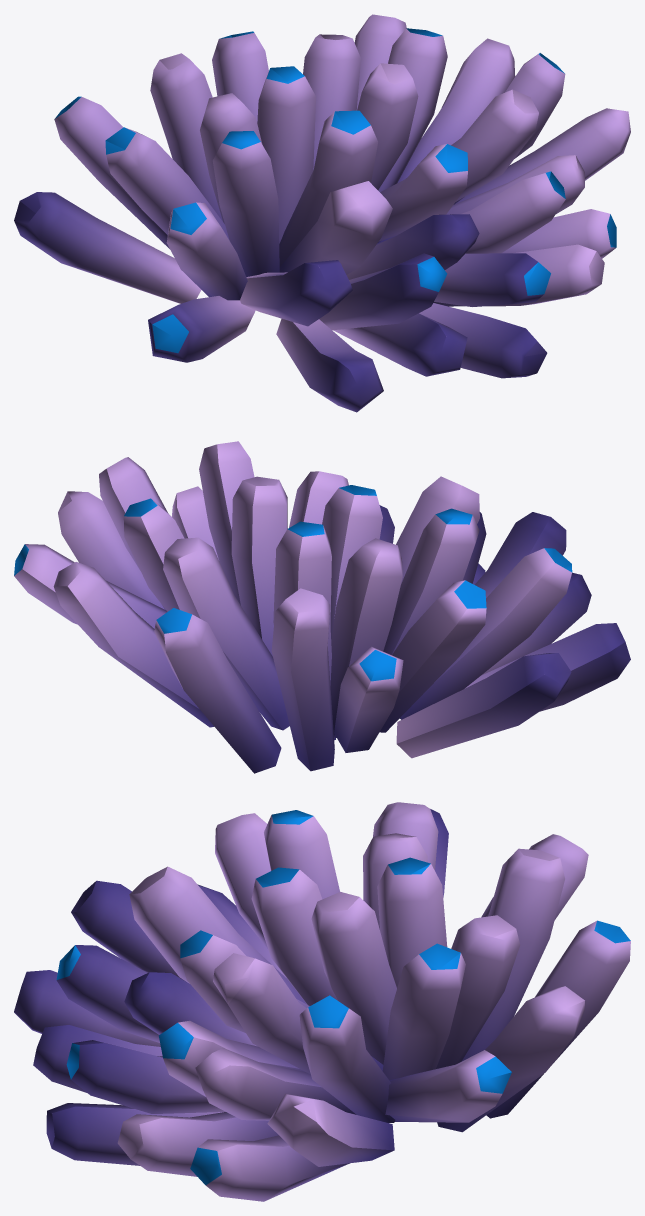
The model's file is coral.fbx.
The picture shows the model from 3 angles, top to bottom: view 1: azimuth 30°, elevation 25°; view 2: azimuth 150°, elevation 25°; view 3: azimuth 270°, elevation 25°; orthographic projection. The views are drawn at different scales.
Visible parts, largest first — view 1: coral; view 2: coral; view 3: coral.
Part boxes in pixels (x1,y1,x2,y2): coral: (14,14,630,412); coral: (14,441,630,773); coral: (14,802,630,1201).
Size of the model in its own units: 632 by 254 by 539.
